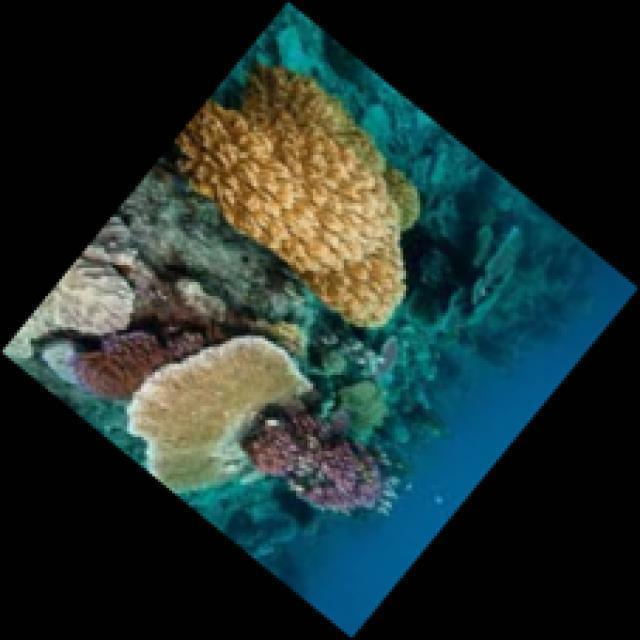Dead Coral: (434, 206, 537, 345)
